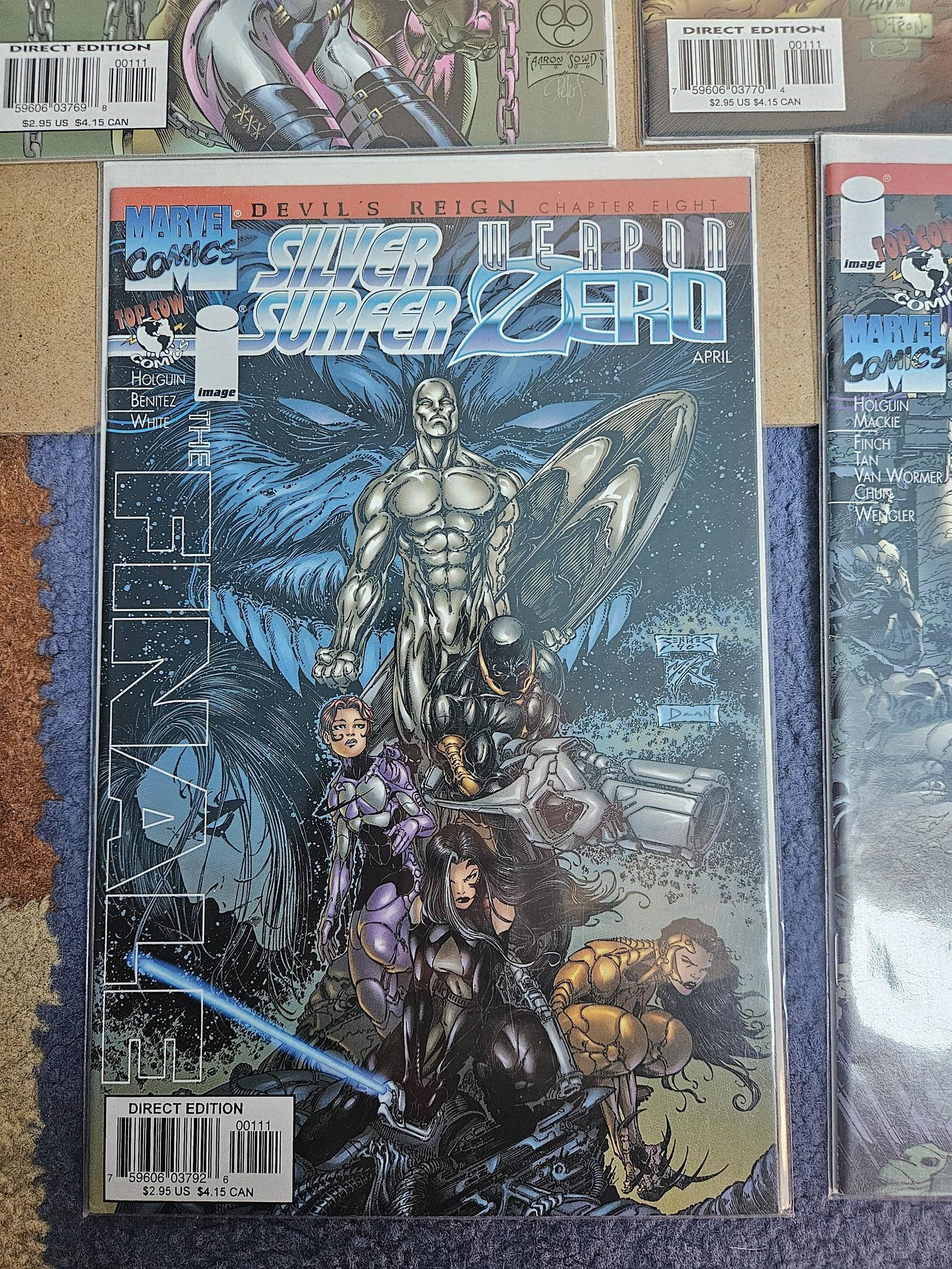comic: (77, 151, 788, 1222), (822, 136, 951, 1197), (0, 0, 614, 158), (639, 0, 951, 142)
